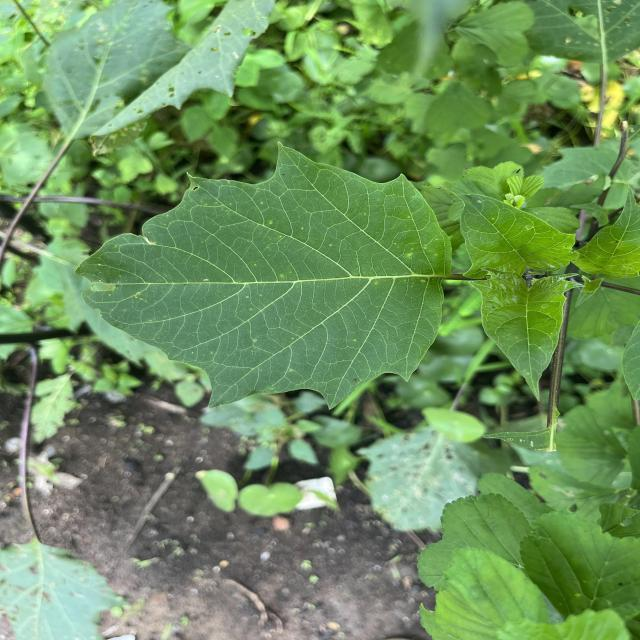Datura metal linn: (70, 137, 454, 414), (466, 260, 586, 404), (437, 180, 588, 280)
